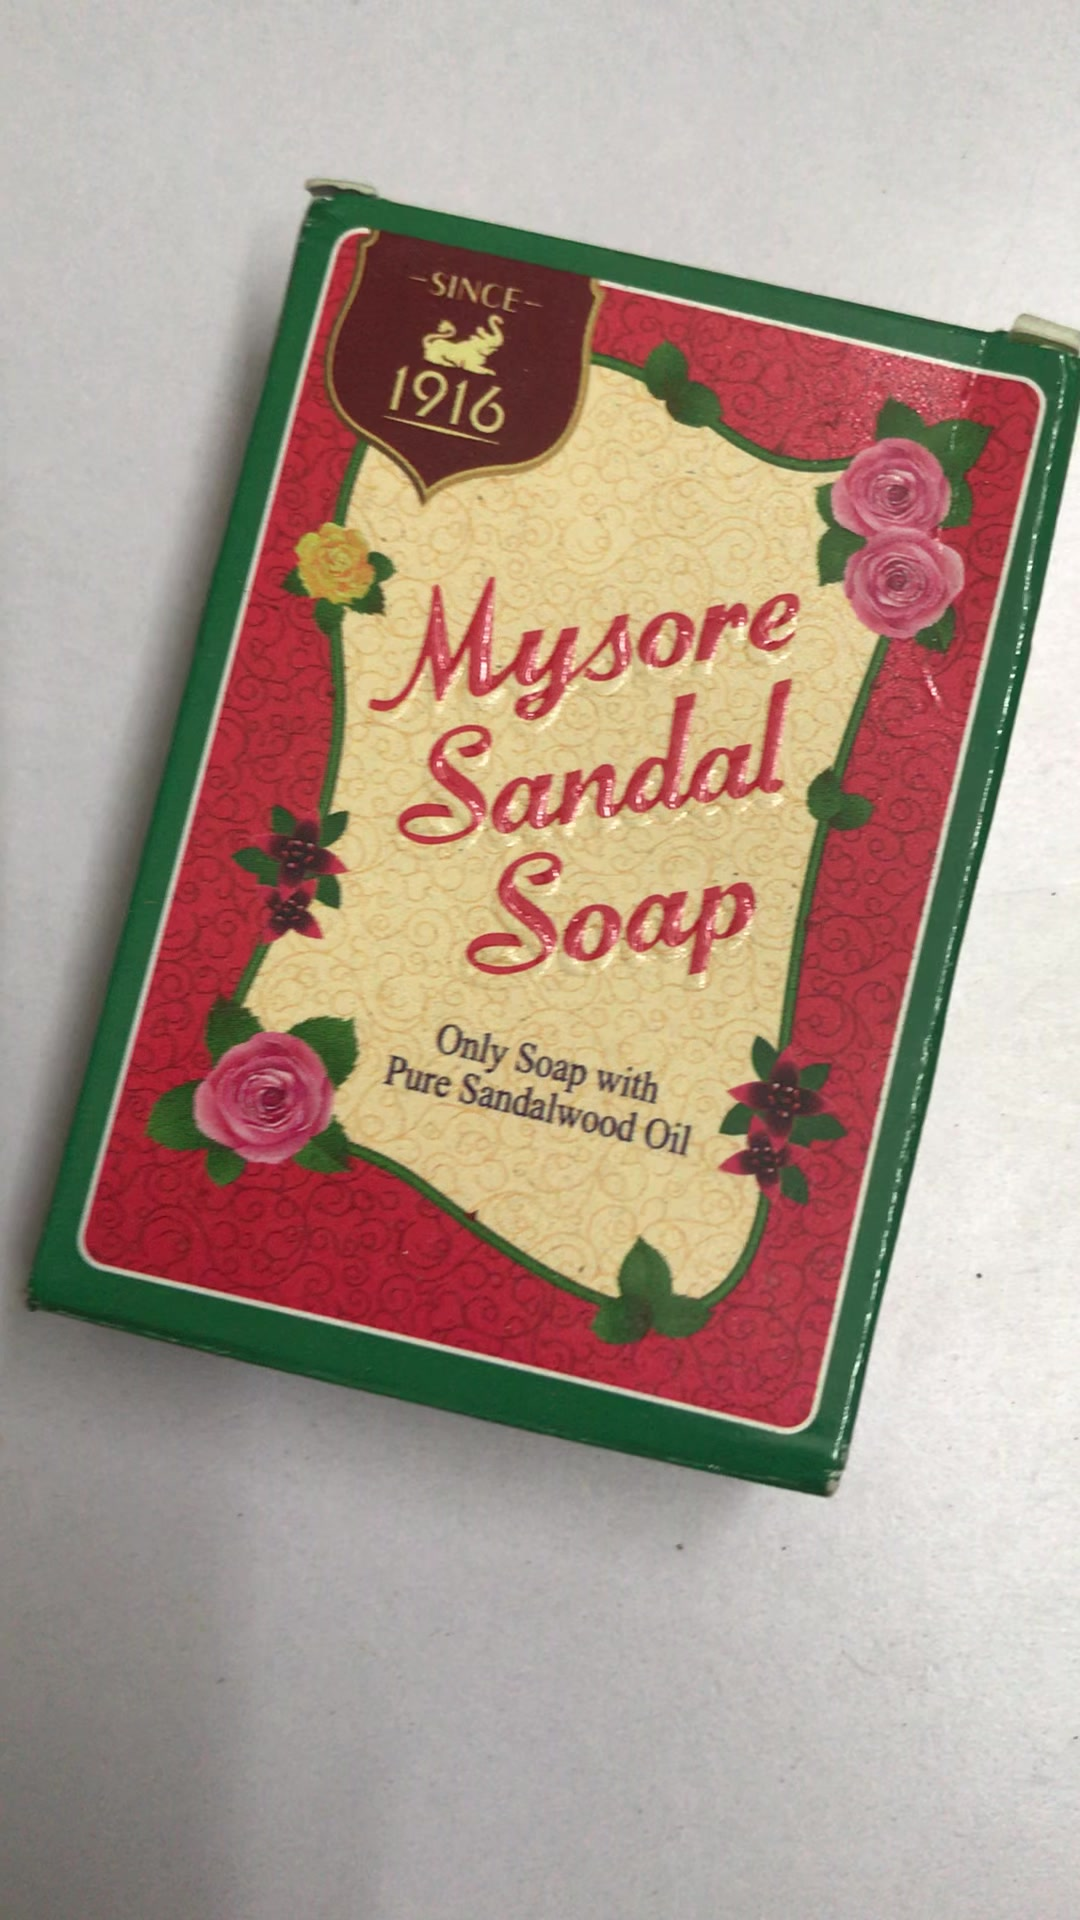mysore sandal soap: (30, 194, 1080, 1491)
